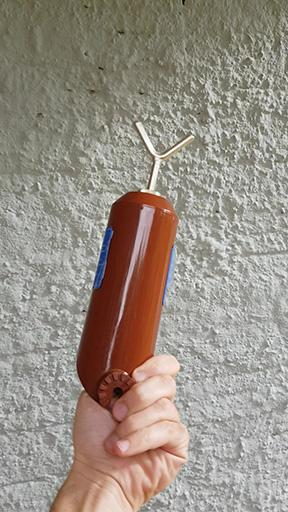Detector_Tensao_Contato: (75, 122, 195, 411)
